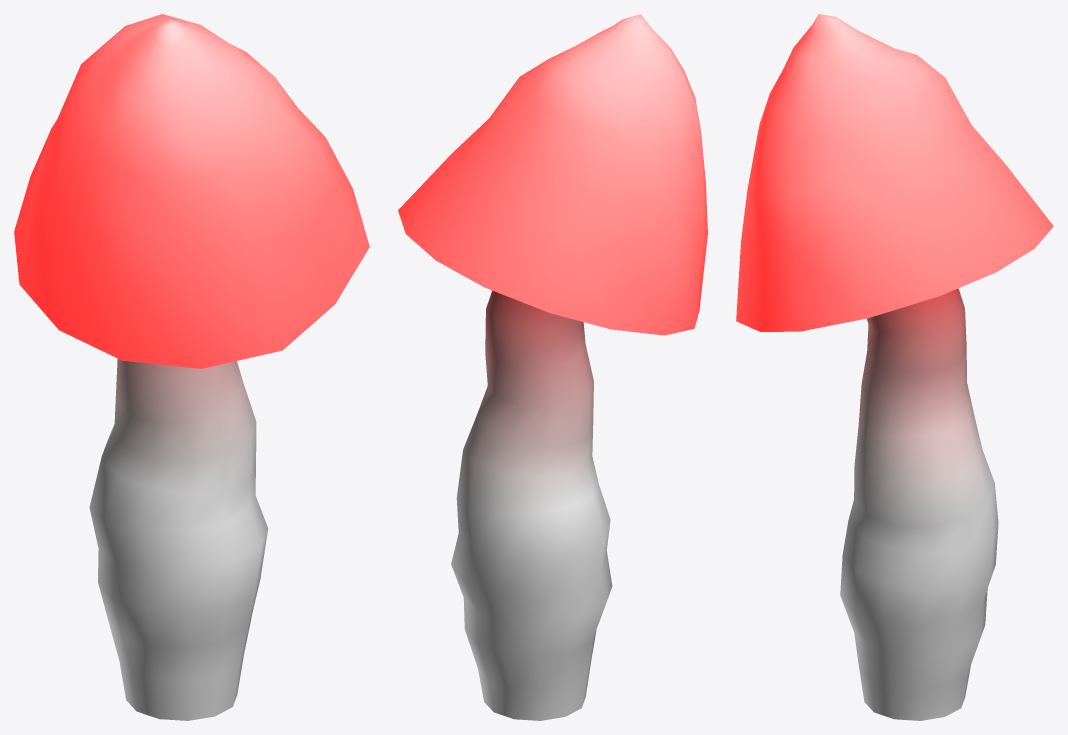
Rendered from mushroom_0.glb.
3 renders of one model, left to right at view 1: azimuth 30°, elevation 25°; view 2: azimuth 150°, elevation 25°; view 3: azimuth 270°, elevation 25°, orthographic. The views are drawn at different scales.
Visible parts, largest first — view 1: geo1; view 2: geo1; view 3: geo1.
Part boxes in pixels (<box>): geo1: <box>14,14,369,720</box>; geo1: <box>398,14,707,720</box>; geo1: <box>736,14,1053,720</box>.
Bounding box in the file's own units: 0.1397 × 0.3254 × 0.1424.
